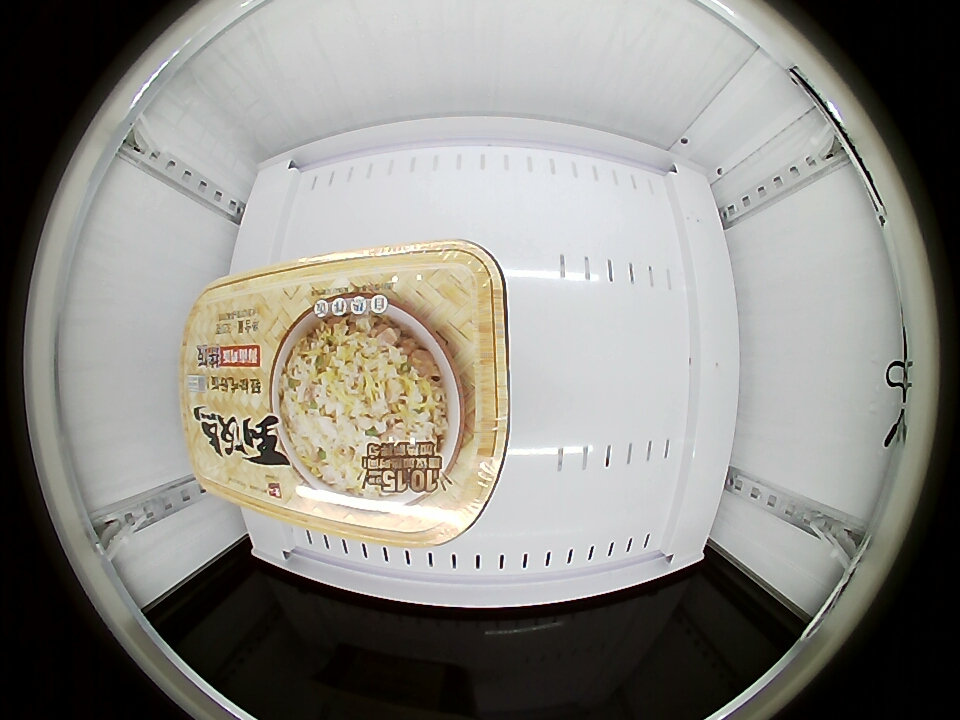daofandian1: (178, 243, 512, 546)
